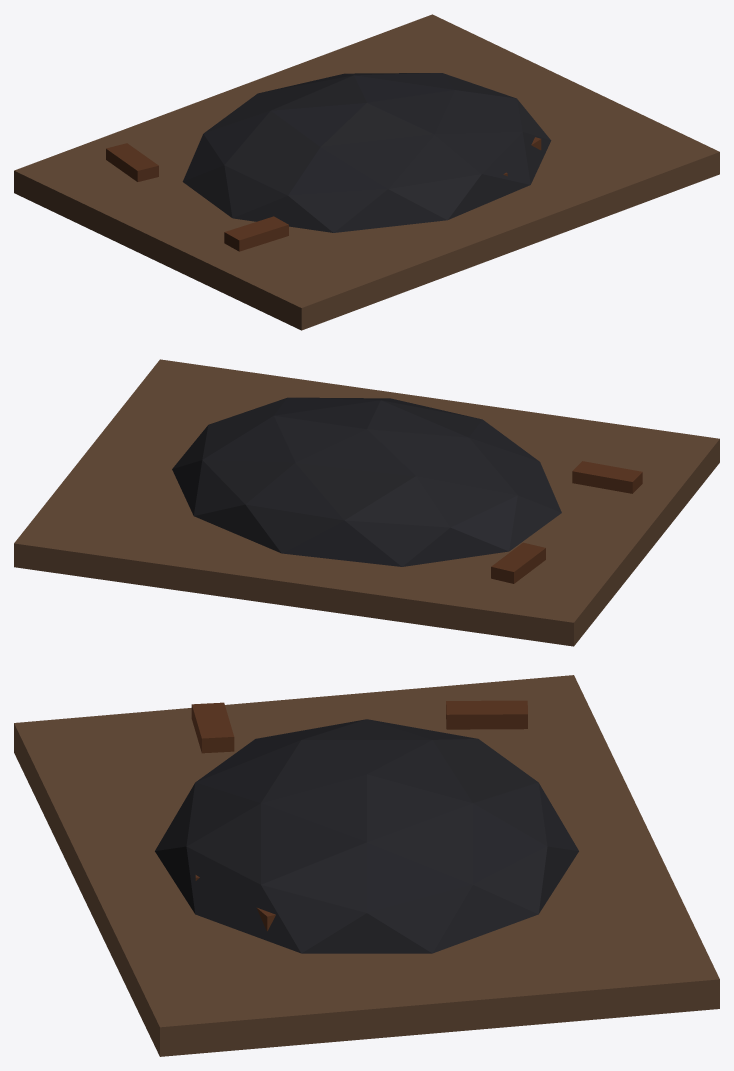
The model's file is village_iron_filings.glb.
The picture shows the model from 3 angles, top to bottom: view 1: azimuth 30°, elevation 25°; view 2: azimuth 150°, elevation 25°; view 3: azimuth 270°, elevation 25°; orthographic projection. The views are drawn at different scales.
Parts seen in each view (by area): view 1: village_iron_filings; view 2: village_iron_filings; view 3: village_iron_filings.
Boxes of the visible parts, left/top/right/bottom form: village_iron_filings: left=14, top=14, right=719, bottom=330; village_iron_filings: left=14, top=359, right=719, bottom=646; village_iron_filings: left=14, top=675, right=719, bottom=1056.
Size of the model in its own units: 0.5106 by 0.104 by 0.4324.
